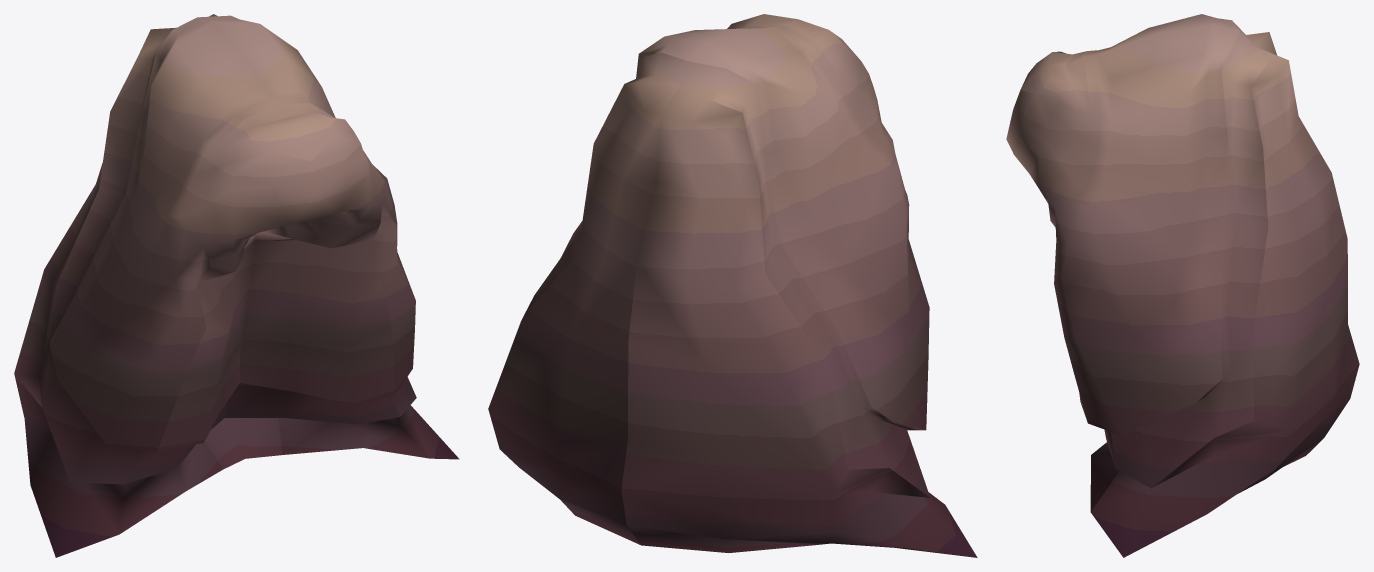
The model's file is FemNPC_Hair.fbx.
The picture shows the model from 3 angles, left to right: view 1: azimuth 30°, elevation 25°; view 2: azimuth 150°, elevation 25°; view 3: azimuth 270°, elevation 25°; orthographic projection. The views are drawn at different scales.
Parts seen in each view (by area): view 1: FemNPC_Hair; view 2: FemNPC_Hair; view 3: FemNPC_Hair.
Part boxes in pixels (x1,y1,x2,y2): FemNPC_Hair: (14, 14, 459, 557); FemNPC_Hair: (488, 14, 977, 557); FemNPC_Hair: (1006, 14, 1359, 557).
Bounding box in the file's own units: 7.97 × 8.57 × 6.26.
